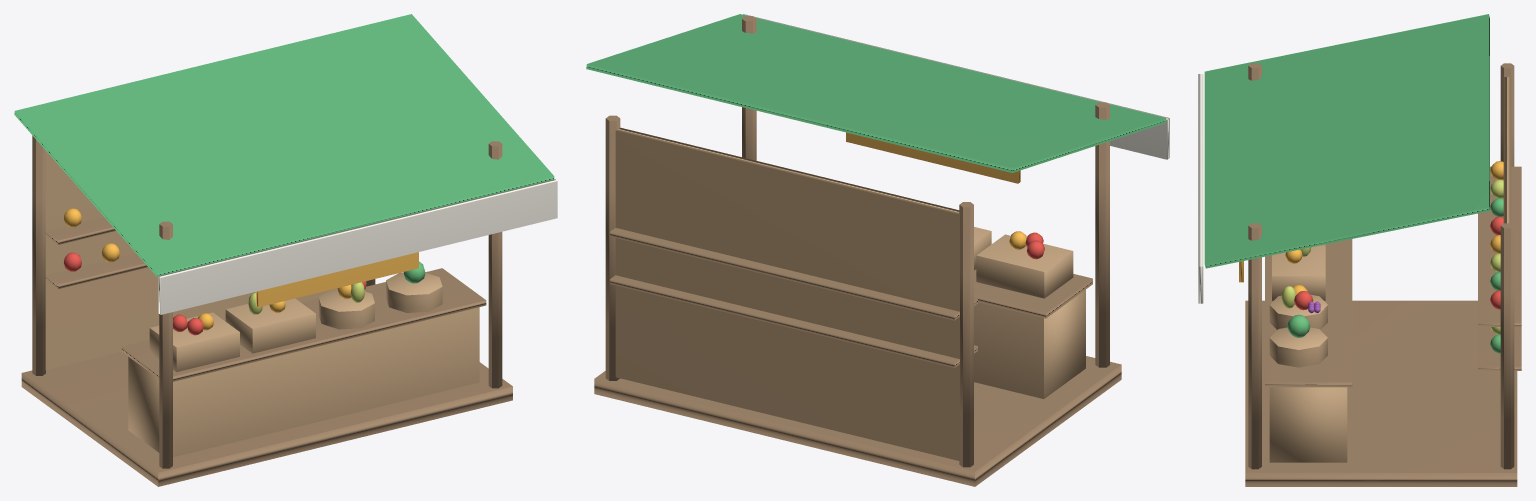
Rendered from puesto_frutas.glb.
3 views of the same model, side by side, from view 1: azimuth 30°, elevation 25°; view 2: azimuth 150°, elevation 25°; view 3: azimuth 270°, elevation 25° (orthographic). The views are drawn at different scales.
Visible parts, largest first — view 1: Pz_Toldo, Grupo_1_6piezas, Grupo_0_8piezas, Pz_Toldo_Franja, Pz_Letrero_Puesto, Grupo_3_7piezas, Grupo_2_7piezas; view 2: Grupo_1_6piezas, Pz_Toldo, Grupo_0_8piezas, Pz_Toldo_Franja, Pz_Letrero_Puesto; view 3: Pz_Toldo, Grupo_0_8piezas, Grupo_1_6piezas, Pz_Toldo_Franja, Grupo_5_5piezas, Grupo_4_6piezas, Grupo_3_7piezas, Grupo_2_7piezas.
Part boxes in pixels (x1=…): Pz_Toldo: x1=14, y1=14, x2=554, y2=276; Grupo_1_6piezas: x1=45, y1=151, x2=479, y2=457; Grupo_0_8piezas: x1=21, y1=135, x2=512, y2=486; Pz_Toldo_Franja: x1=158, y1=179, x2=557, y2=314; Pz_Letrero_Puesto: x1=256, y1=252, x2=418, y2=307; Grupo_3_7piezas: x1=63, y1=208, x2=351, y2=330; Grupo_2_7piezas: x1=63, y1=252, x2=366, y2=335; Grupo_1_6piezas: x1=615, y1=127, x2=1085, y2=460; Pz_Toldo: x1=586, y1=14, x2=1166, y2=172; Grupo_0_8piezas: x1=594, y1=16, x2=1121, y2=486; Pz_Toldo_Franja: x1=743, y1=14, x2=1169, y2=159; Pz_Letrero_Puesto: x1=846, y1=132, x2=1020, y2=183; Pz_Toldo: x1=1204, y1=14, x2=1489, y2=268; Grupo_0_8piezas: x1=1245, y1=63, x2=1521, y2=486; Grupo_1_6piezas: x1=1269, y1=77, x2=1511, y2=462; Pz_Toldo_Franja: x1=1198, y1=74, x2=1203, y2=303; Grupo_5_5piezas: x1=1287, y1=198, x2=1503, y2=353; Grupo_4_6piezas: x1=1281, y1=179, x2=1503, y2=334; Grupo_3_7piezas: x1=1285, y1=161, x2=1503, y2=294; Grupo_2_7piezas: x1=1294, y1=216, x2=1503, y2=310.
Bounding box in the file's own units: 4.7 × 3.3 × 3.33.
